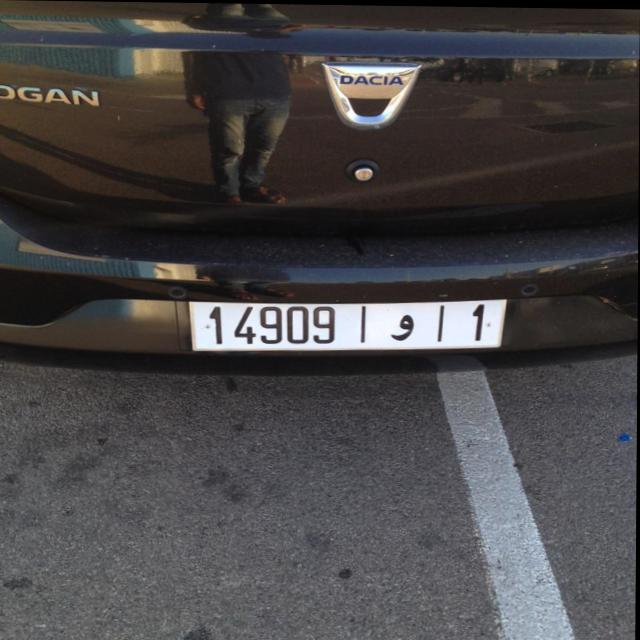License-Plate: (191, 298, 508, 351)
